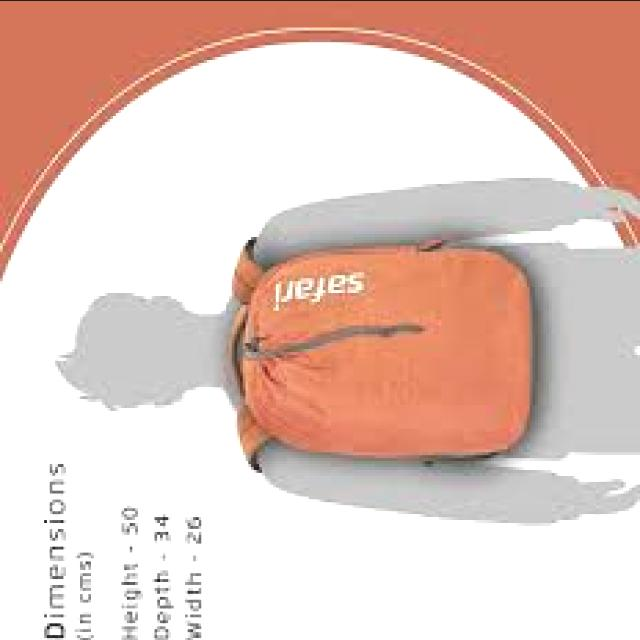backpack: (228, 237, 534, 473)
